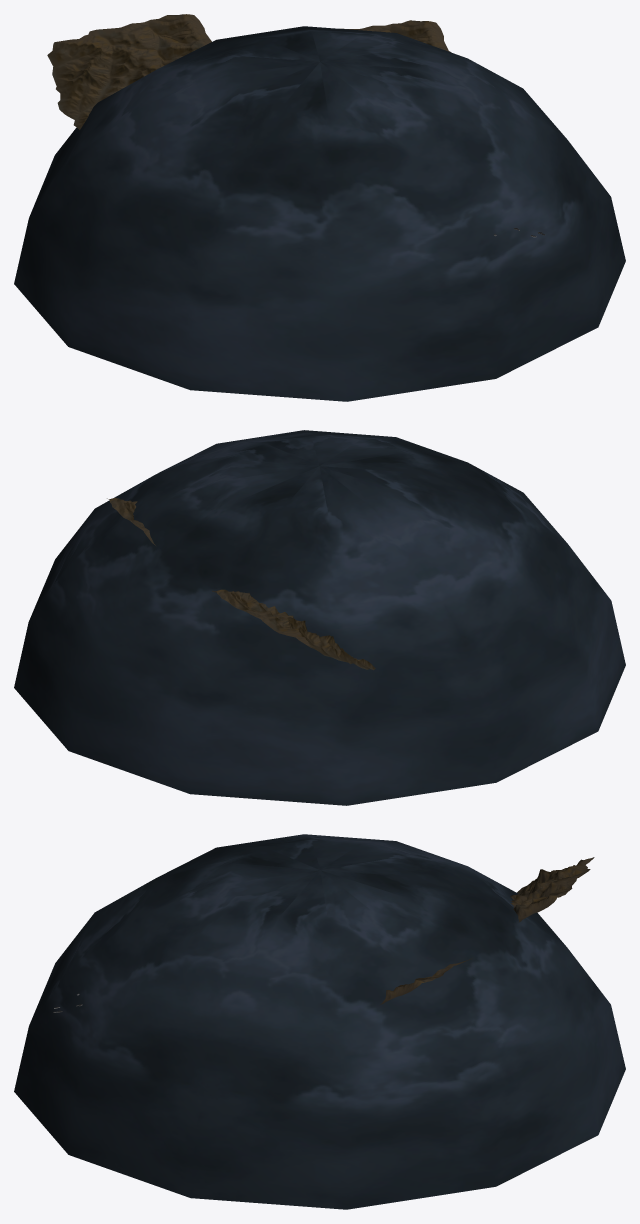
The model's file is env_mus_lava_shore_01_pre.glb.
3 renders of one model, top to bottom at view 1: azimuth 30°, elevation 25°; view 2: azimuth 150°, elevation 25°; view 3: azimuth 270°, elevation 25°, orthographic.
Parts seen in each view (by area): view 1: skybox_01_mesh, atm_terrain_01_mesh (8), atm_terrain_01_mesh (7); view 2: skybox_01_mesh, atm_terrain_01_mesh (8), atm_terrain_01_mesh (7); view 3: skybox_01_mesh, atm_terrain_01_mesh (8), atm_terrain_01_mesh (7).
Part boxes in pixels (x1,y1,x2,y2): skybox_01_mesh: (14, 26, 625, 401); atm_terrain_01_mesh (8): (47, 14, 211, 129); atm_terrain_01_mesh (7): (340, 20, 451, 52); skybox_01_mesh: (14, 430, 625, 805); atm_terrain_01_mesh (8): (212, 589, 375, 670); atm_terrain_01_mesh (7): (107, 498, 155, 545); skybox_01_mesh: (14, 834, 625, 1209); atm_terrain_01_mesh (8): (510, 857, 594, 922); atm_terrain_01_mesh (7): (380, 958, 472, 1004).
Bounding box in the file's own units: 289 × 109 × 289.
Materials: 12 (12 with a texture image).
